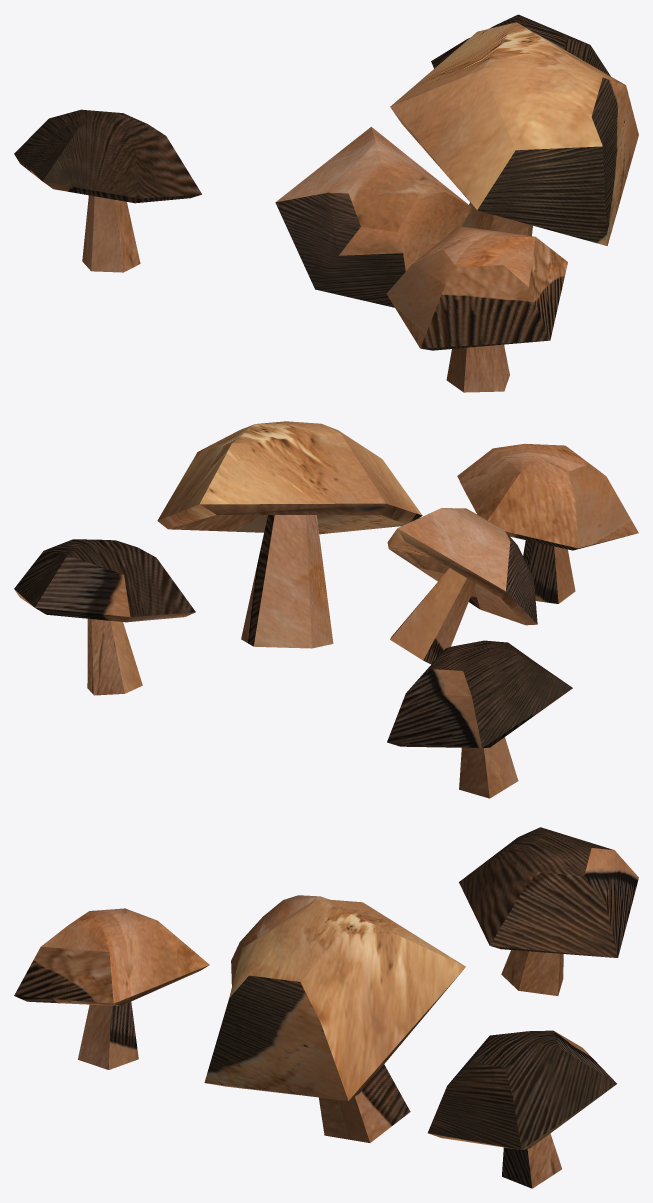
File: MushroomBrownSmall_LOD1.dae
3 renders of one model, top to bottom at view 1: azimuth 30°, elevation 25°; view 2: azimuth 150°, elevation 25°; view 3: azimuth 270°, elevation 25°, orthographic. The views are drawn at different scales.
Parts seen in each view (by area): view 1: MushroomBrownSmall_LOD1; view 2: MushroomBrownSmall_LOD1; view 3: MushroomBrownSmall_LOD1.
Part boxes in pixels (x1,y1,x2,y2): MushroomBrownSmall_LOD1: [14, 14, 638, 392]; MushroomBrownSmall_LOD1: [14, 421, 638, 798]; MushroomBrownSmall_LOD1: [14, 827, 638, 1188].
Size of the model in its own units: 0.2853 by 0.1047 by 0.2723.
